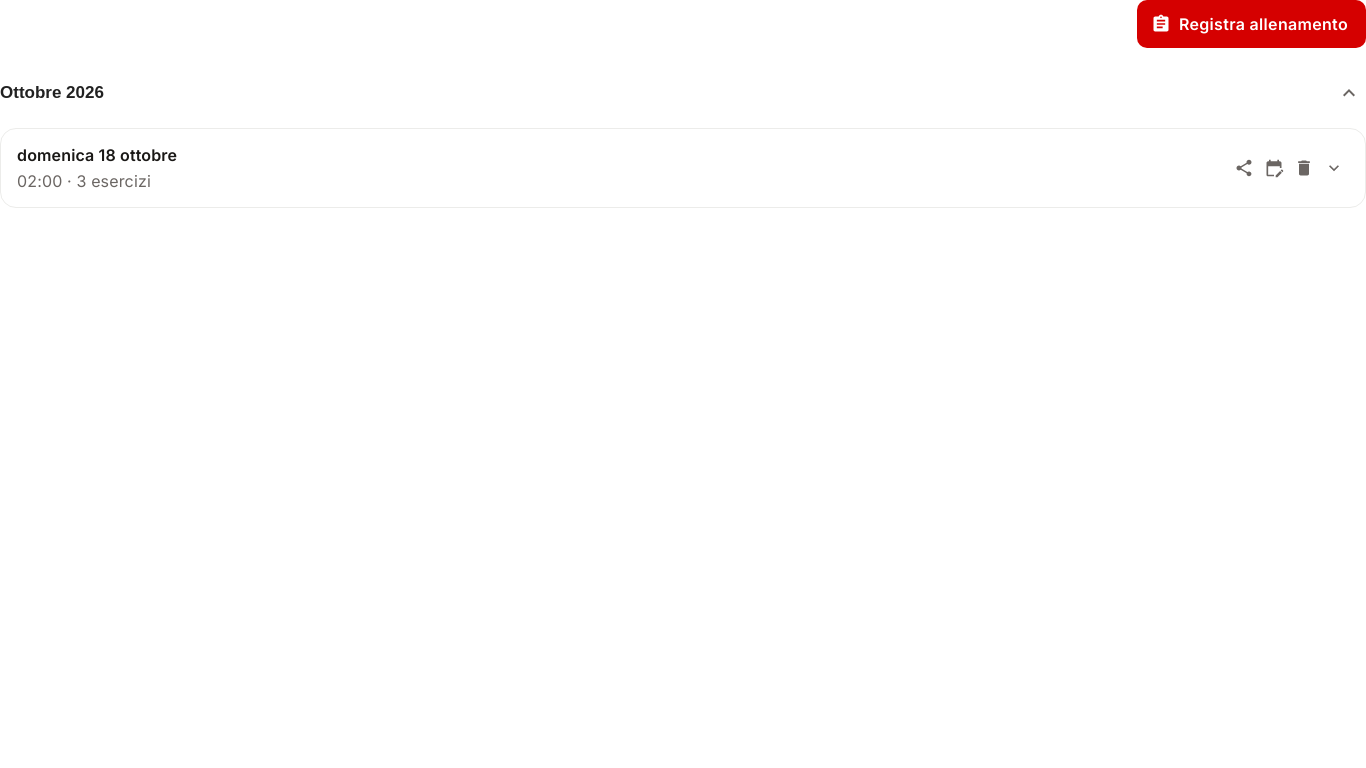
Scenario: eliminazione con «Annulla» › allo scadere dei 10 secondi parte la richiesta di eliminazione
Expected: the text "02:00 · 3 esercizi" is shown, [17,169,151,193]
Click the button named "Elimina allenamento". click: (1304, 168)
box: [1289,153,1319,183]
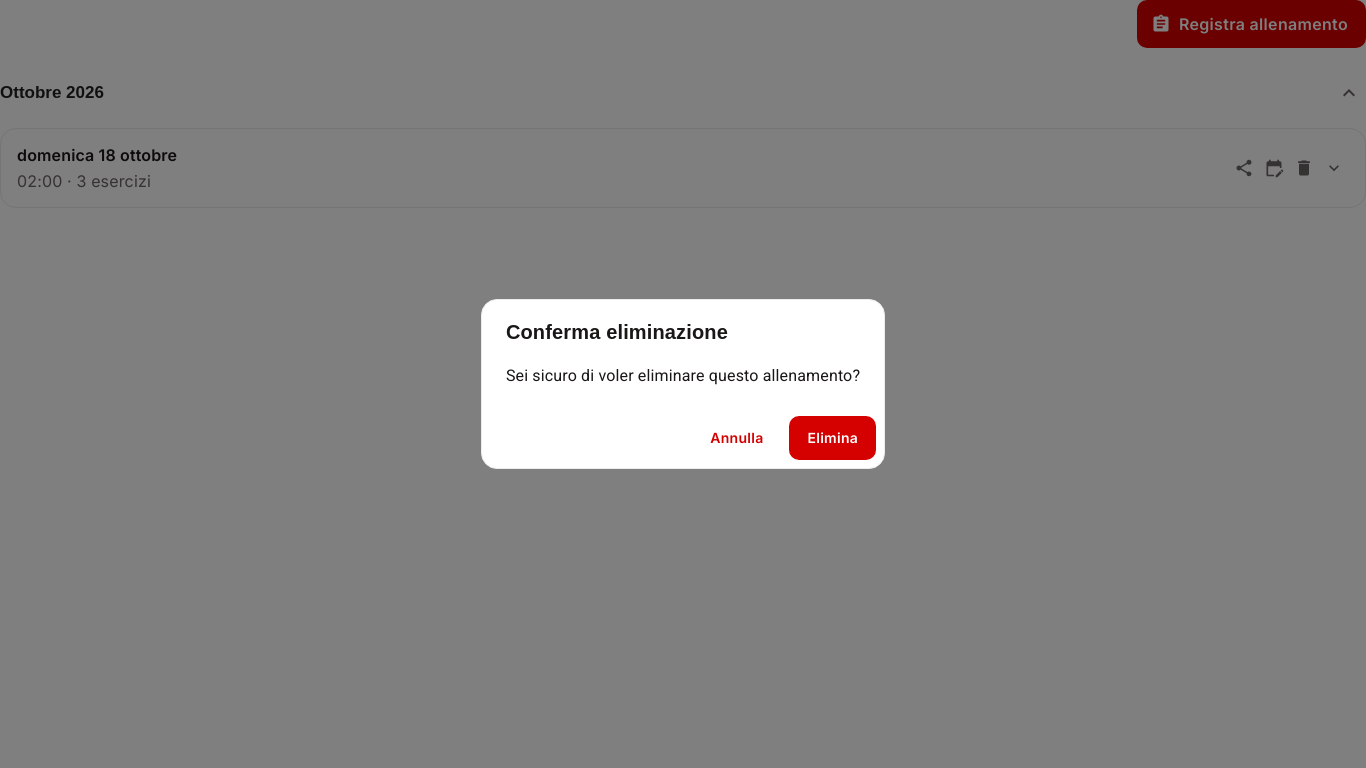
Now the heading "Conferma eliminazione" is shown, box [506,321,728,343]
Click the button "Elimina". click: (833, 438)
box: [790,416,876,460]
Wait 10000 ms
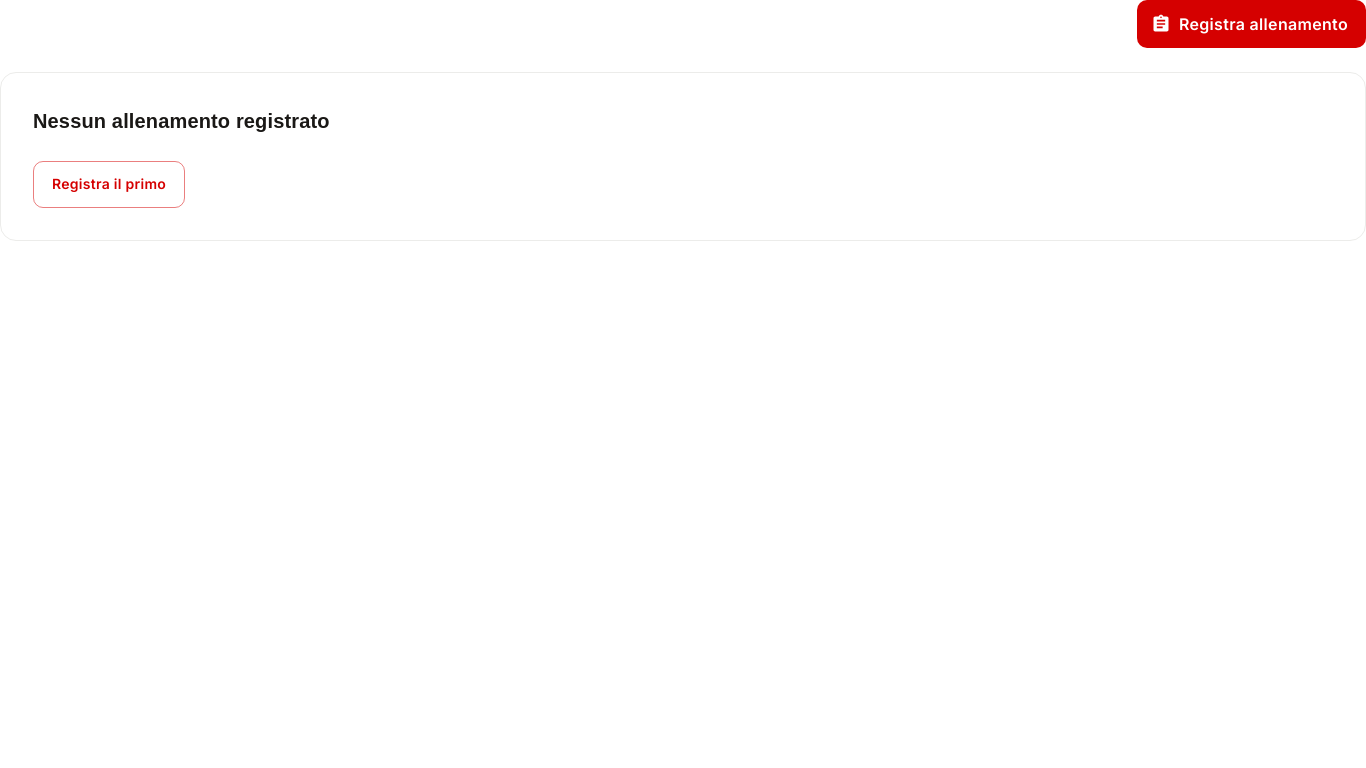
Now the button "02:00 · 3 esercizi" is gone
